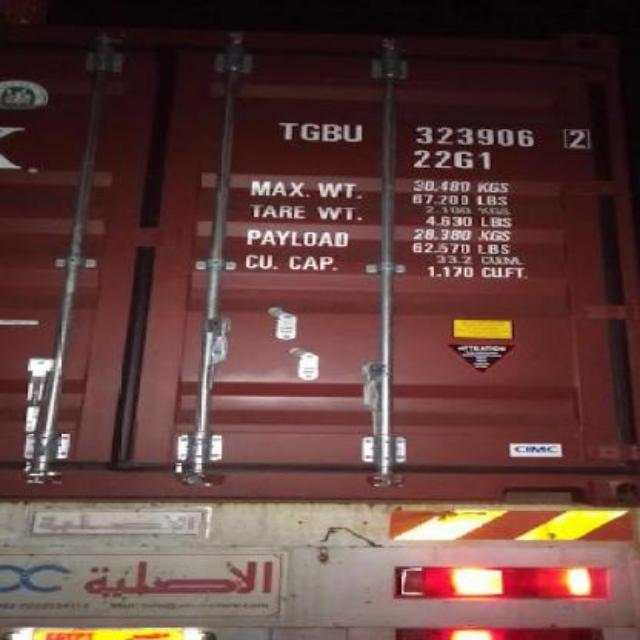0: (494, 126, 518, 148)
2: (566, 126, 590, 150), (436, 125, 456, 146)
3: (412, 125, 434, 145), (454, 125, 474, 145)
6: (516, 128, 534, 148)
9: (476, 127, 496, 147)
B: (320, 122, 340, 142)
G: (298, 122, 322, 140)
T: (270, 120, 300, 142)
U: (340, 121, 366, 142)
